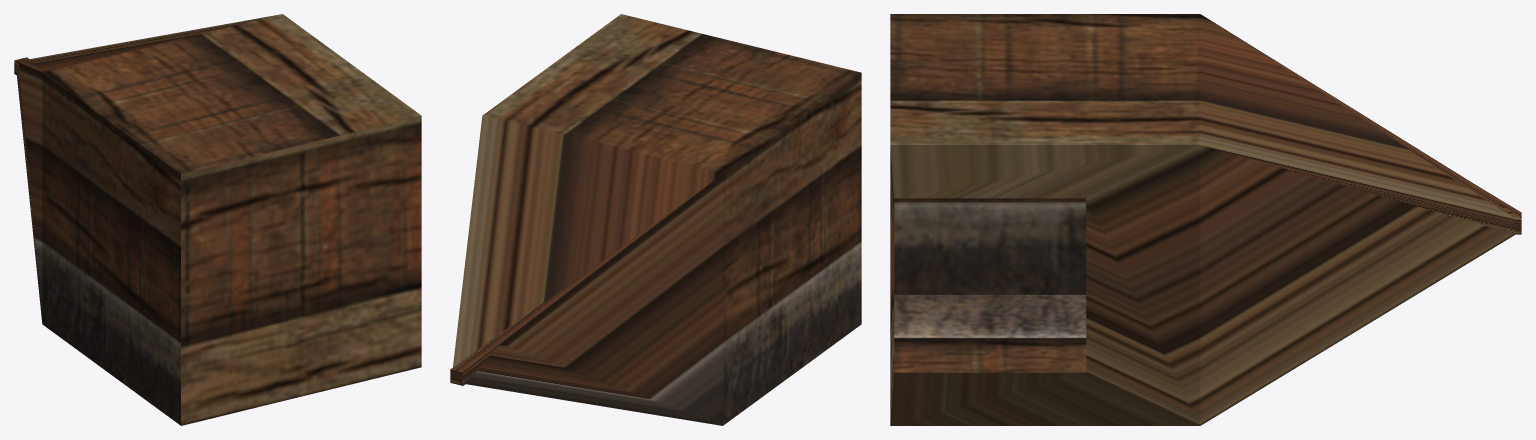
The model's file is cube_texture.fbx.
3 views of the same model, side by side, from view 1: azimuth 30°, elevation 25°; view 2: azimuth 150°, elevation 25°; view 3: azimuth 270°, elevation 25° (orthographic). The views are drawn at different scales.
Parts seen in each view (by area): view 1: Cube; view 2: Cube; view 3: Cube.
Part boxes in pixels (x1,y1,x2,y2): Cube: [14, 14, 421, 425]; Cube: [450, 14, 861, 425]; Cube: [890, 14, 1521, 425].
Size of the model in its own units: 574 by 574 by 1168.
1 material, 1 textured.
